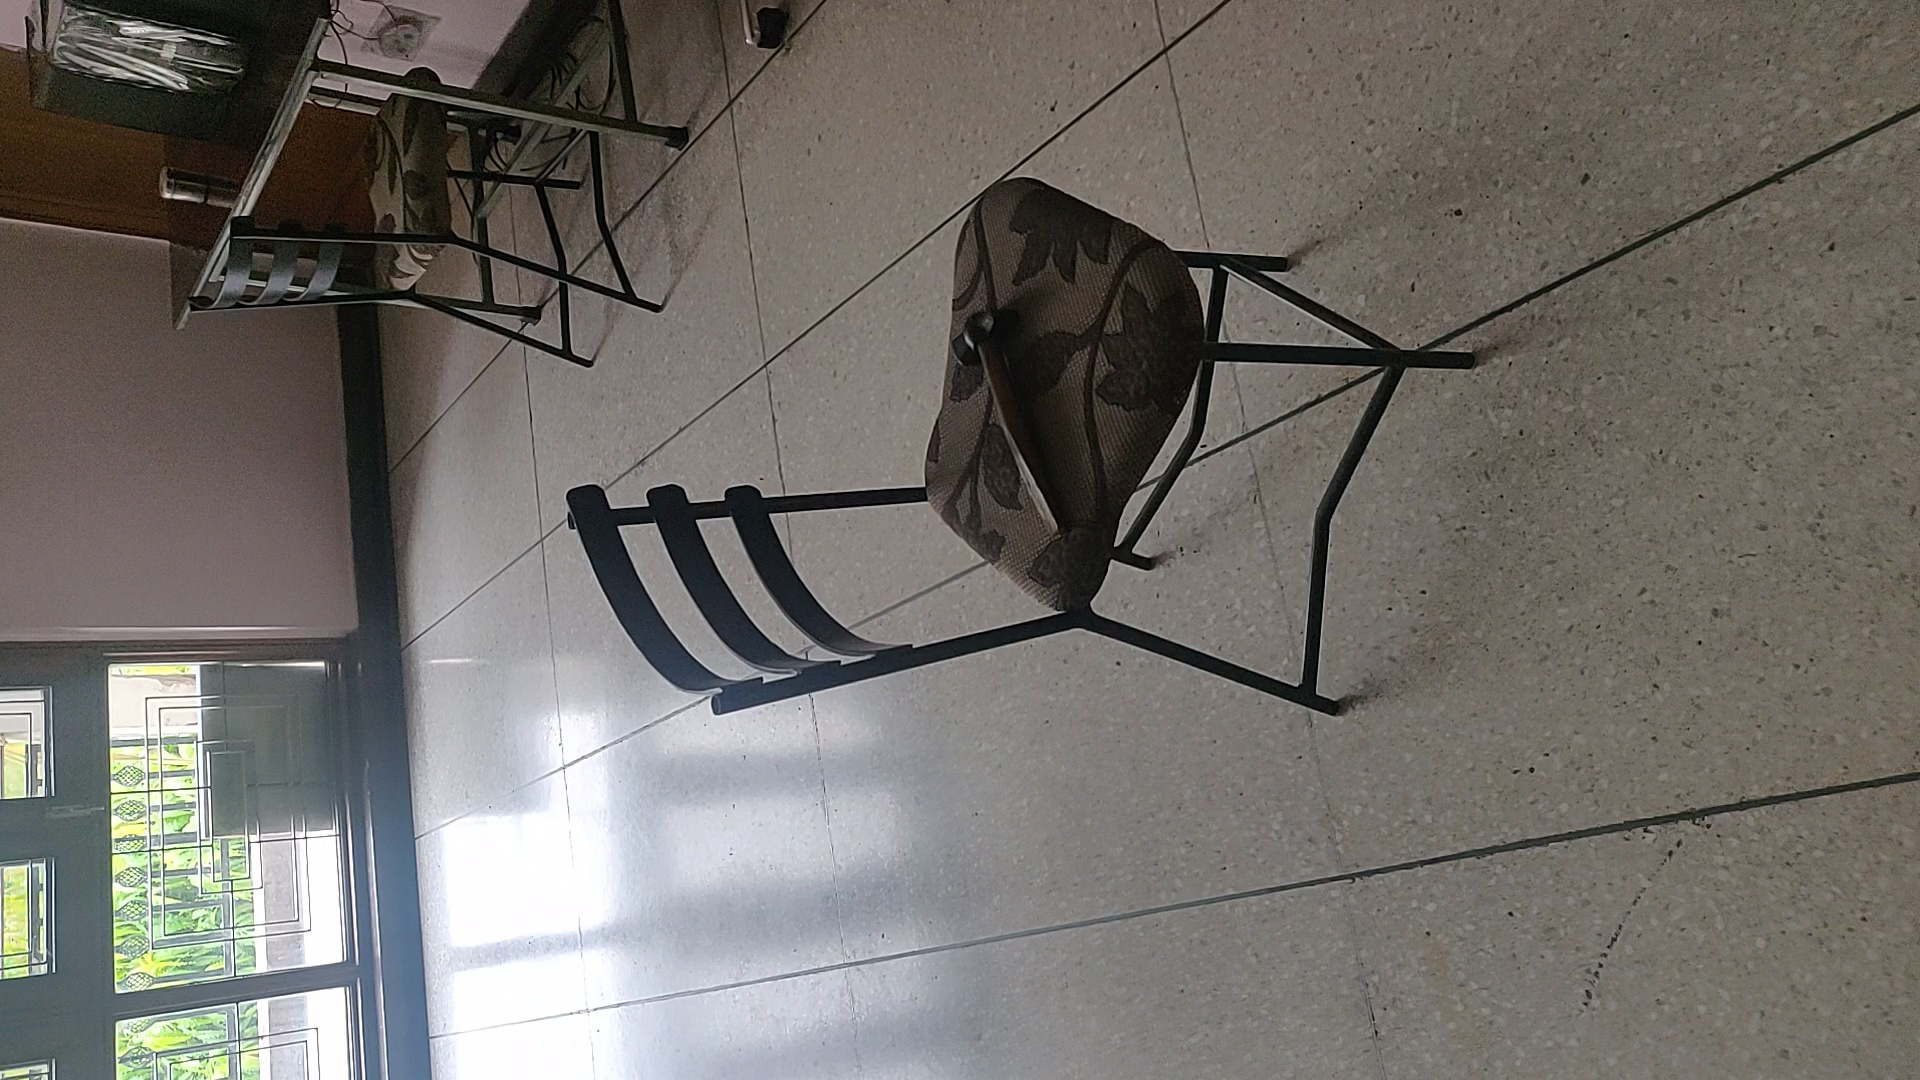hammer: (948, 305, 1071, 541)
